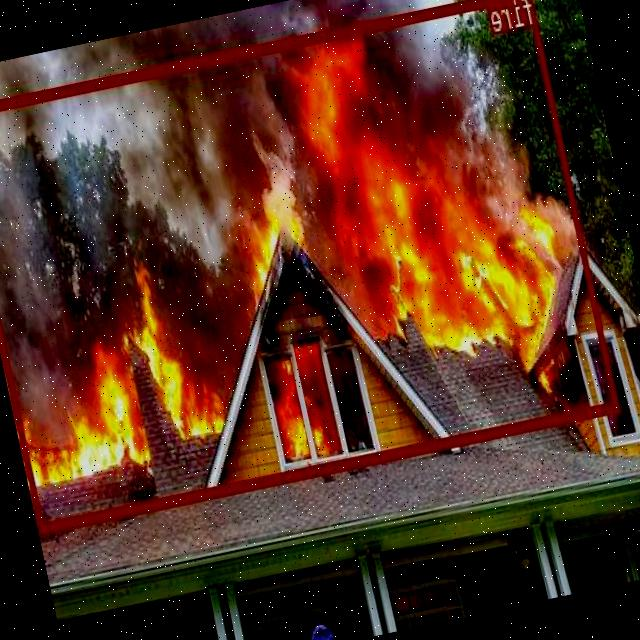fire: (0, 0, 619, 531)
